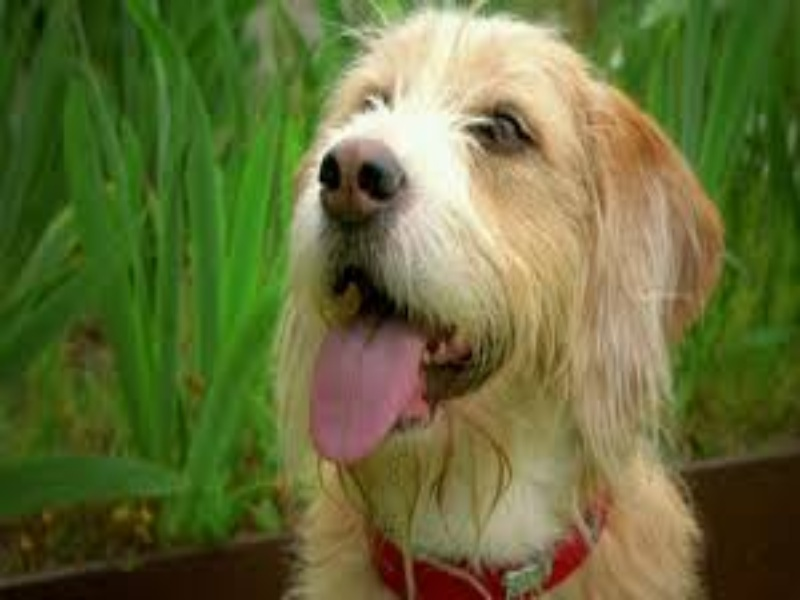dog: (263, 6, 743, 600)
